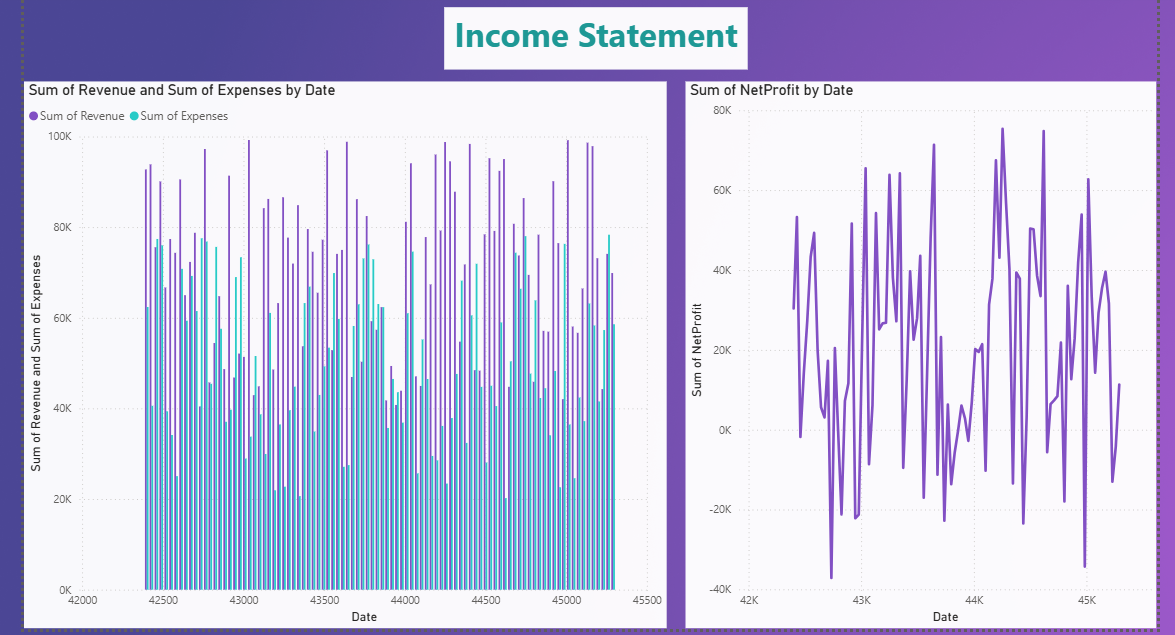

Layout of this report page (visuals, bound fields, positions):
{"tool":"powerbi","page":{"name":"Page 2","canvas":[1280,720],"ordinal":1},"visuals":[{"type":"textbox","box":[475,17.2,343.4,70.6],"z":0},{"type":"clusteredColumnChart","fields":{"Category":["IncomeStatement.Date"],"Y":["Sum(IncomeStatement.Revenue)","Sum(IncomeStatement.Expenses)"]},"box":[0,101.1,726.8,618.1],"z":1000},{"type":"lineChart","fields":{"Category":["IncomeStatement.Date"],"Y":["Sum(IncomeStatement.NetProfit)"]},"box":[747.8,101.1,532.2,618.1],"z":1001}]}

Visuals, with their boxes on the page's 1280x720 design canvas (x1, y1, x2, y2). These are canvas units, not pixel positions in the 1175x635 screenshot, which may show the page scaled, cropped or inside an application window:
textbox: crop(475, 17, 818, 88)
clusteredColumnChart - IncomeStatement.Date x Sum(IncomeStatement.Revenue): crop(0, 101, 727, 719)
lineChart - IncomeStatement.Date x Sum(IncomeStatement.NetProfit): crop(748, 101, 1280, 719)
